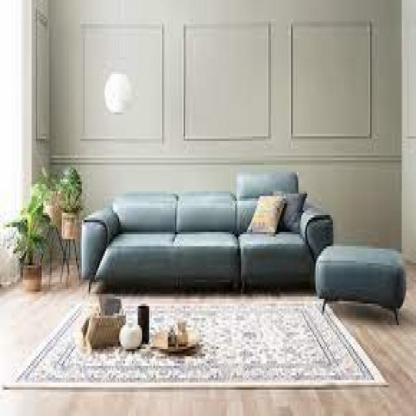Carpet: (5, 295, 386, 390)
Sofa: (65, 158, 350, 312)
Wall Panel: (79, 19, 374, 143)
